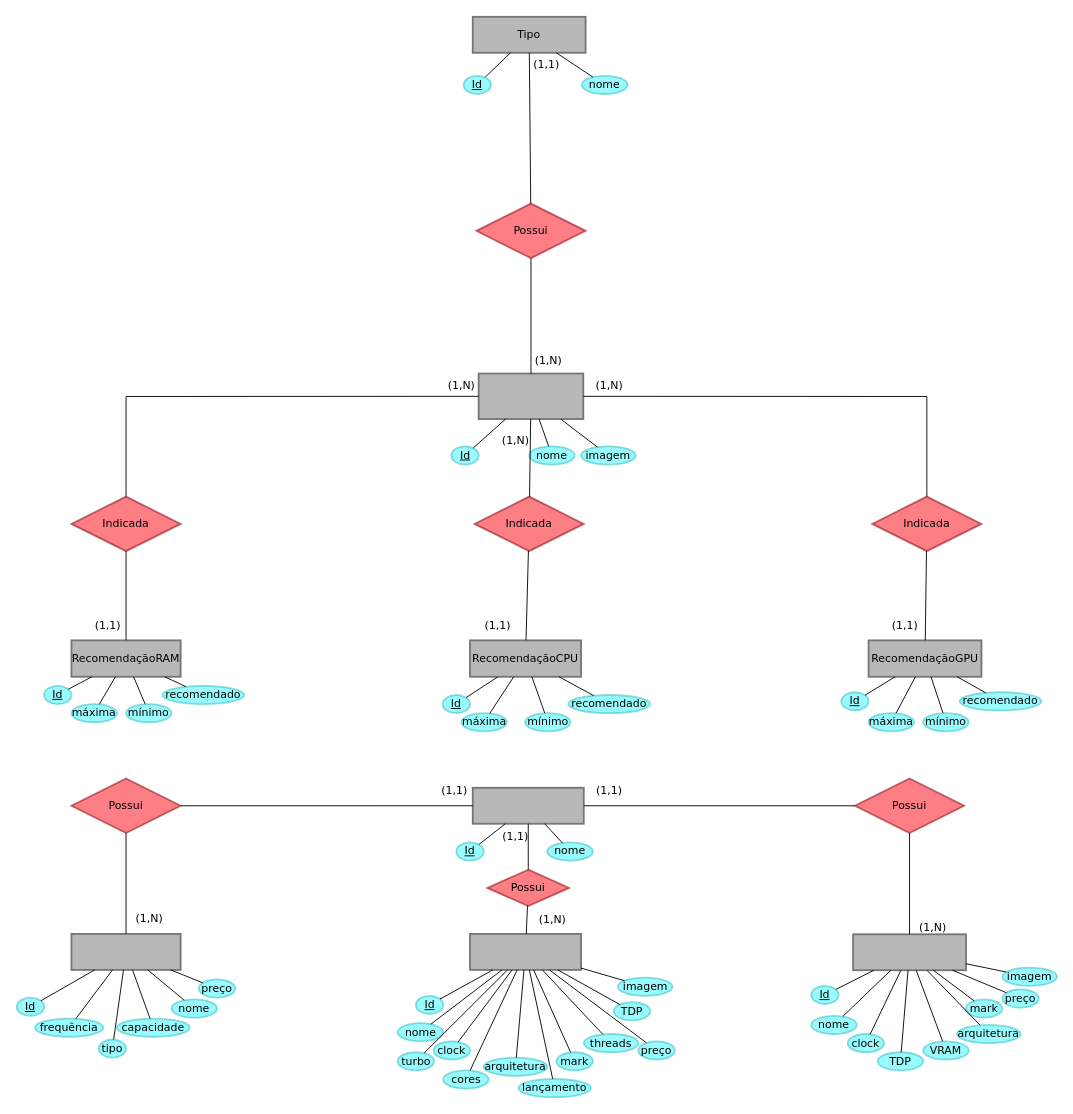
Some shapes in this 1073 by 1114 pixel diagram are drawn without their labels. The shapes that lost their labels are listed below. From the top down, each one's centre as x and y in pixels, then its label:
(530,396): Software
(527,805): Marcas
(125,951): RAM
(525,951): CPU
(909,952): GPU
